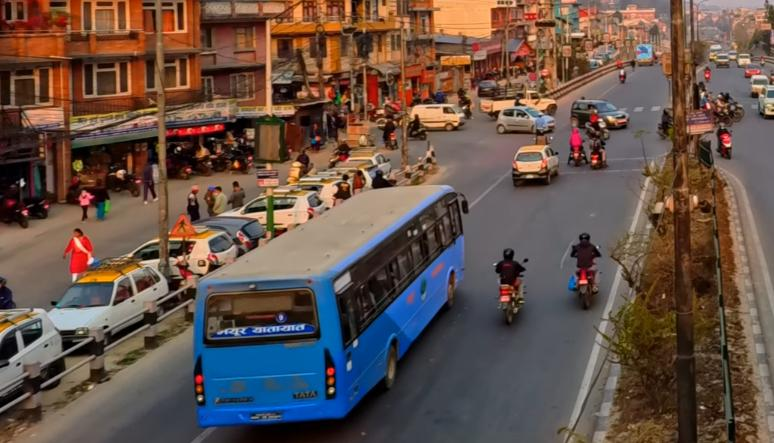bus: (183, 176, 474, 443)
